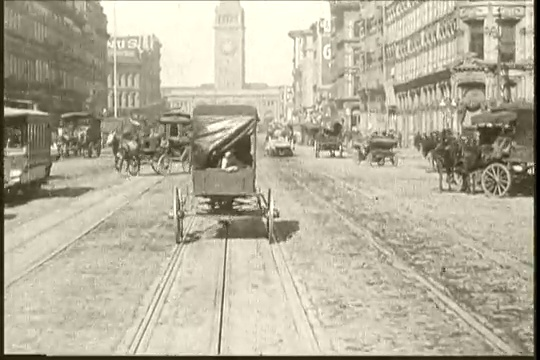car: (352, 131, 405, 171)
carriage: (167, 103, 279, 248), (411, 102, 536, 205), (104, 108, 190, 174), (52, 109, 101, 161), (308, 121, 345, 161), (263, 121, 297, 162)
